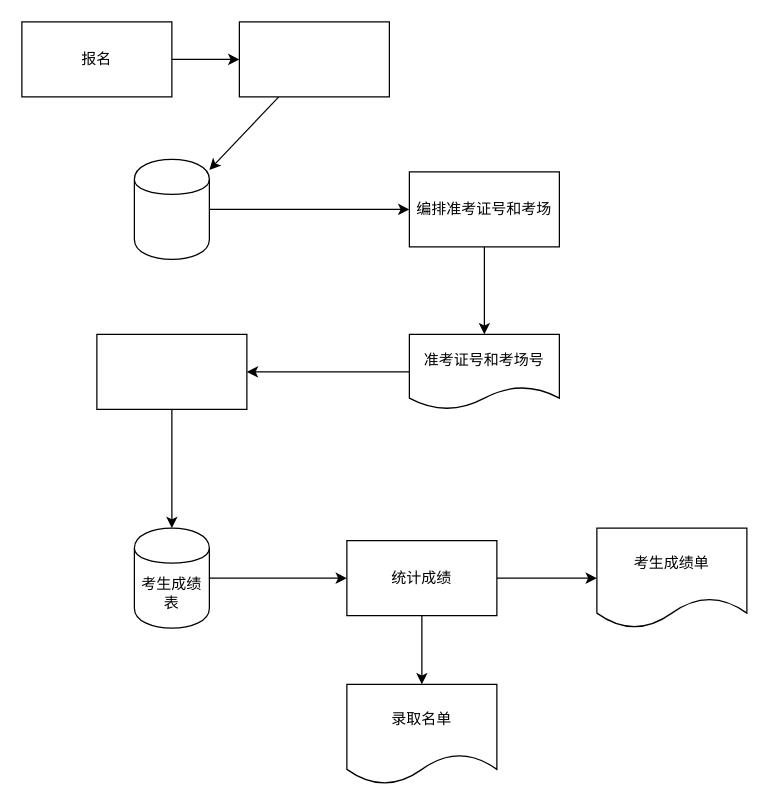
Some shapes in this 769 by 806 pixel diagram are drawn without their labels. Here are the shapes that lost their labels. From the top down, the box of each, then its label:
(238, 21, 389, 97): 登记信息
(133, 158, 209, 259): 考生信息表
(96, 333, 247, 409): 考生考试
